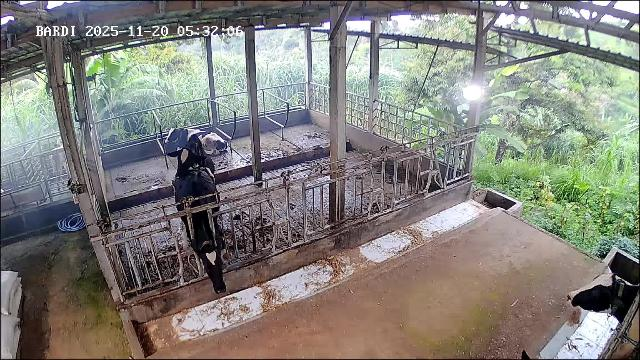mounting: (167, 134, 215, 190)
